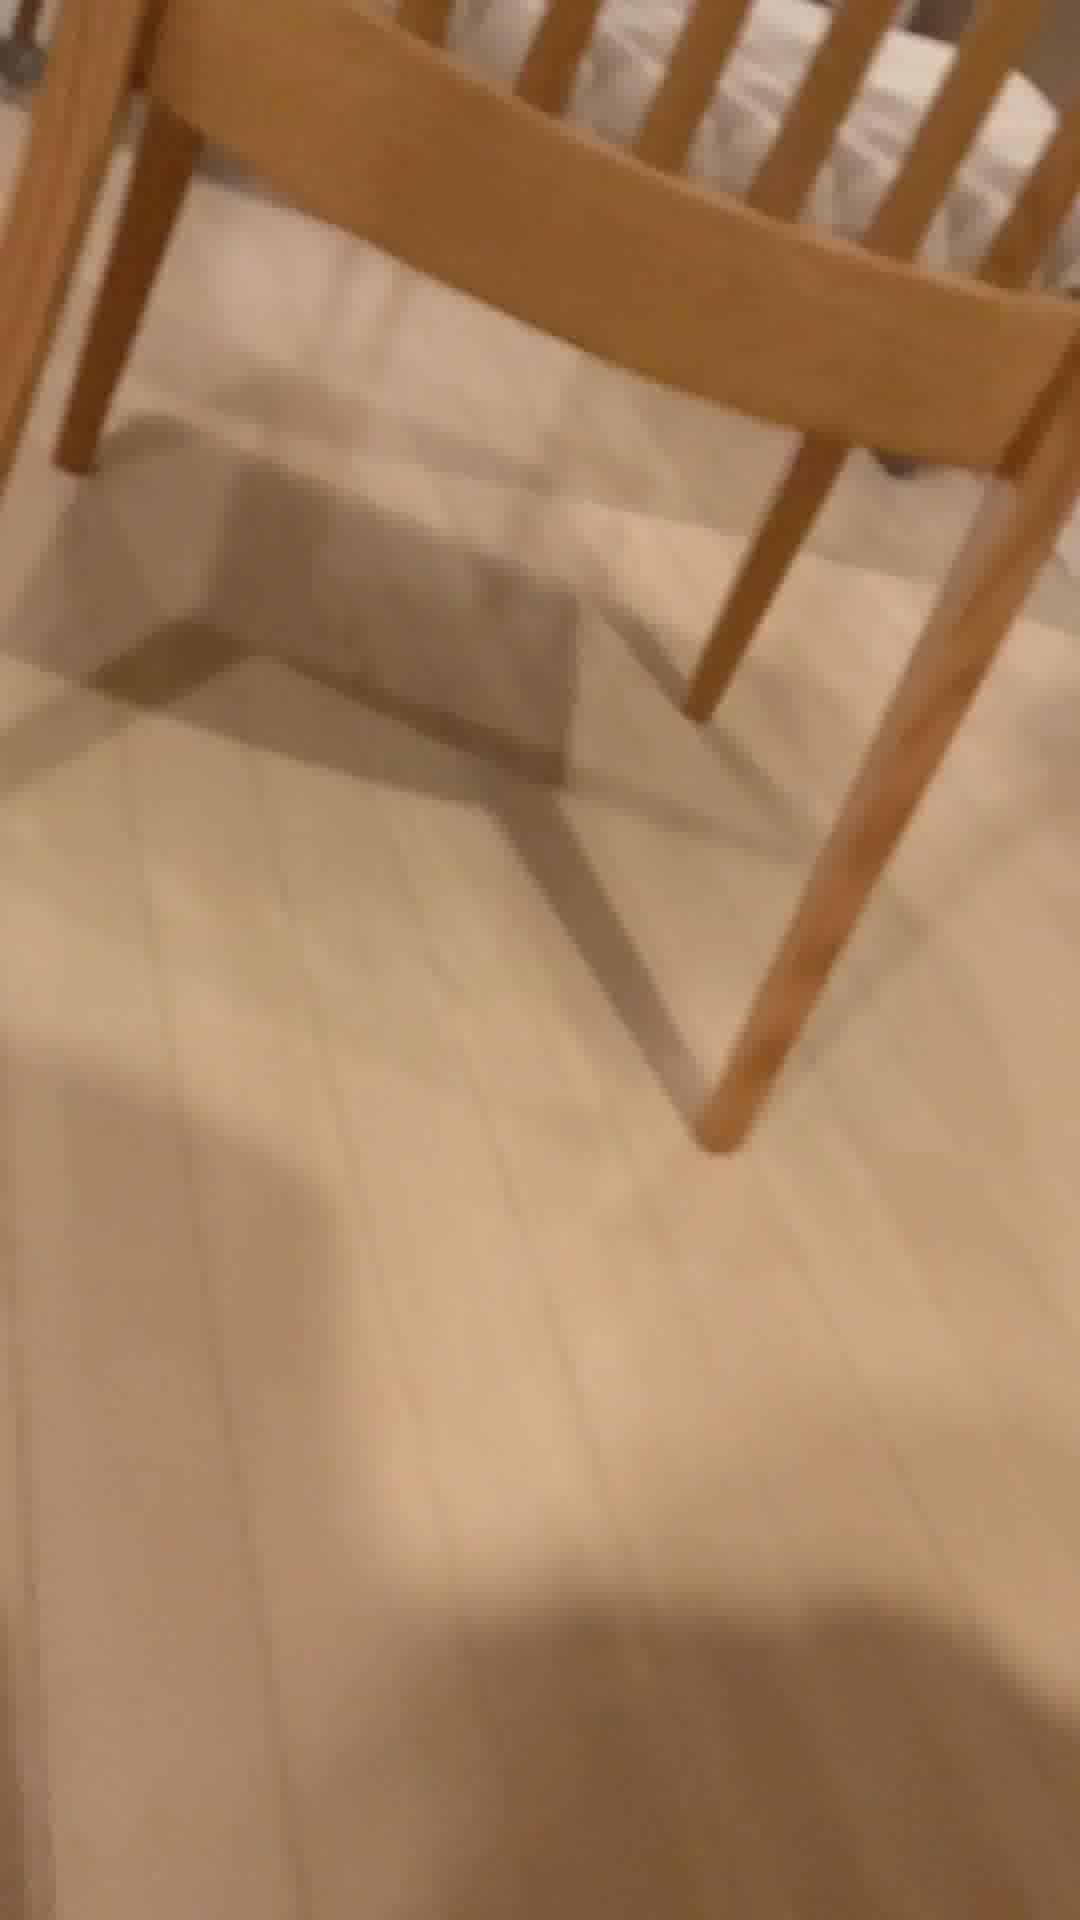takumikan-chair: (0, 0, 1080, 1153)
